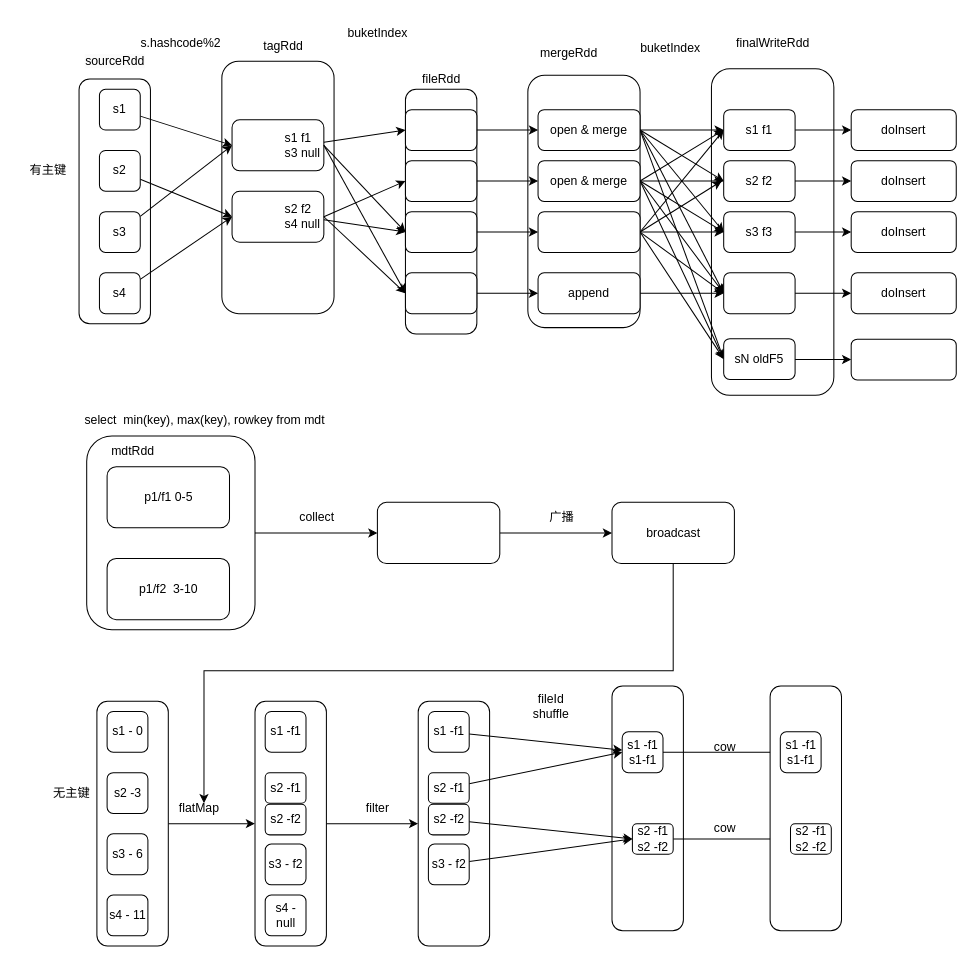
Image size: 974x964. Some labels were removed from this diagram. Each missing label, with the box of its shape:
docow: (850, 338, 956, 380)
open & append: (537, 211, 640, 252)
p1/f1 0-5 p1/f2 3-10: (376, 501, 500, 564)
s1 old_f1: (404, 109, 477, 150)
s2 old_f2: (404, 160, 477, 201)
s3 old_f3: (404, 211, 477, 252)
s4 new_f4: (404, 272, 477, 314)
s4 newF4: (723, 272, 795, 314)
tag1: (231, 119, 324, 171)
tag2: (231, 190, 324, 242)
